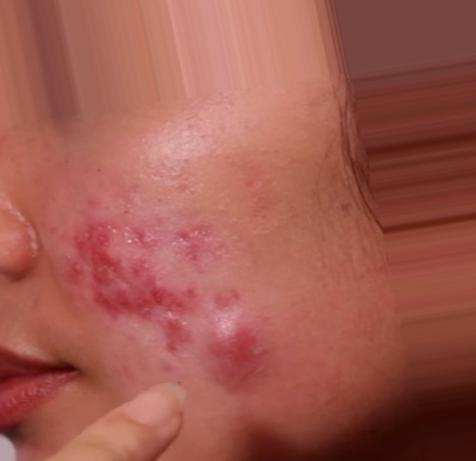Acne: (96, 250, 187, 315), (219, 300, 270, 382)
